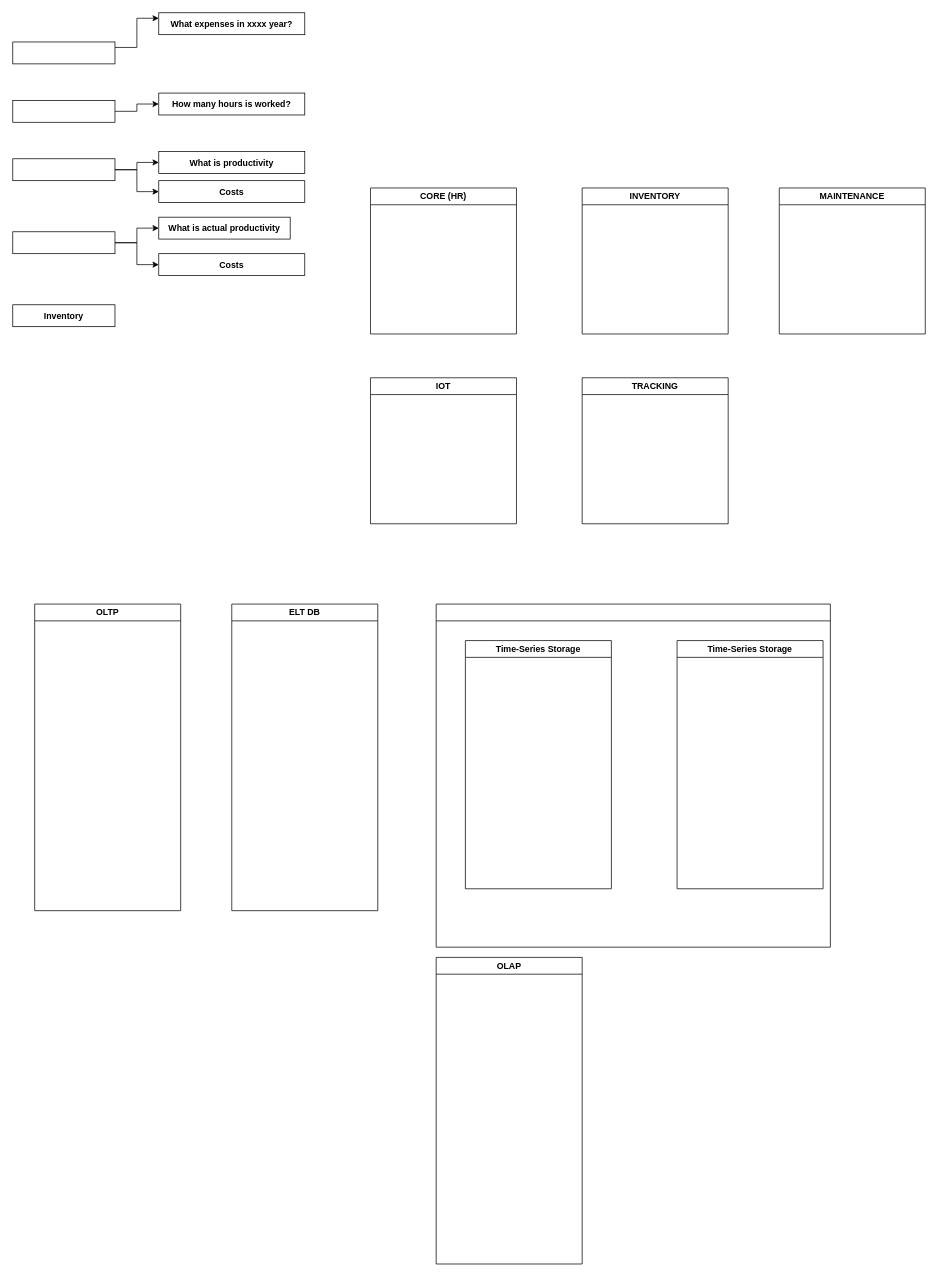
Image size: 938x1277. Some labels were removed from this diagram. The shapes that lost their labels are listed below. From the top down, each one's box as (x1, y1, x2, y2) in pixels, then its label:
(12, 41, 115, 64): Organizational Unit
(12, 100, 115, 122): Workteam
(12, 158, 115, 181): Employee
(12, 231, 115, 254): Equipment
(435, 603, 830, 947): DWH
